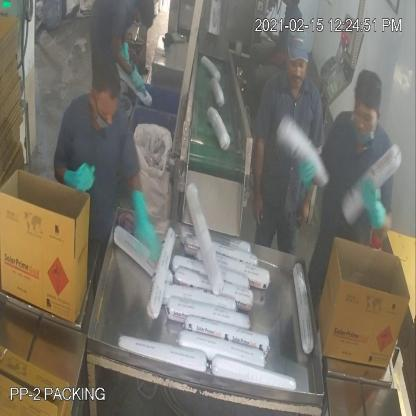glove: (119, 168, 168, 269), (48, 150, 101, 202), (359, 168, 391, 242), (131, 59, 150, 96)
no_glove: (245, 124, 271, 230), (298, 178, 314, 231)
